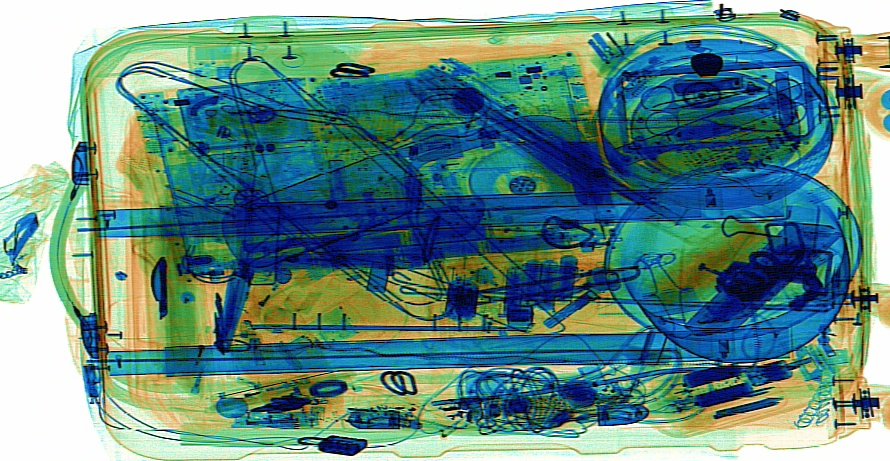lighter: (218, 257, 286, 355), (201, 375, 322, 420), (173, 294, 223, 396)
scissors: (638, 82, 752, 137), (693, 77, 809, 127)
